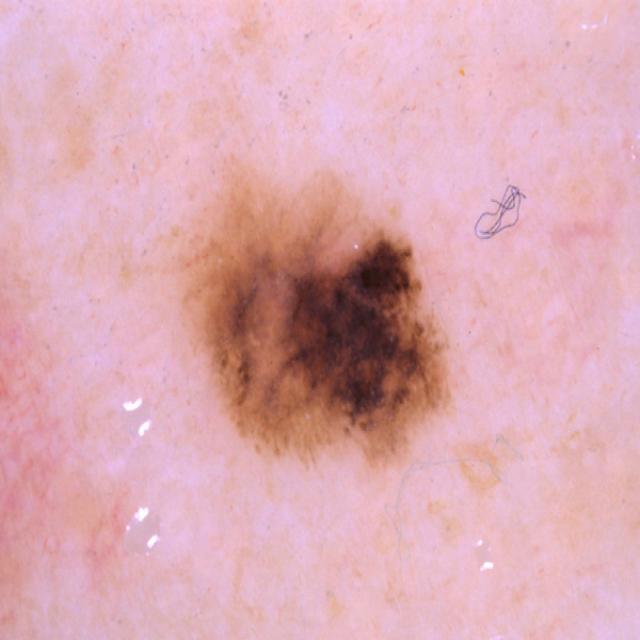NV: (165, 155, 453, 474)
